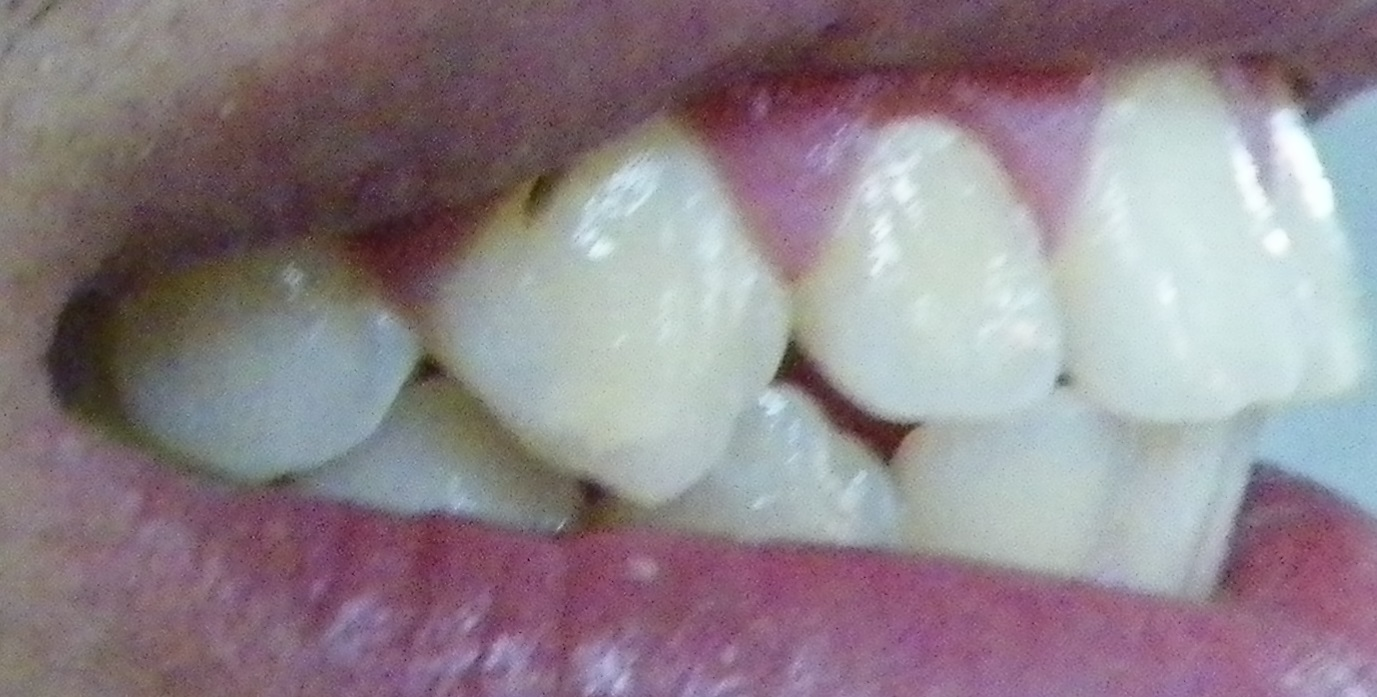boca: (49, 75, 1354, 577)
